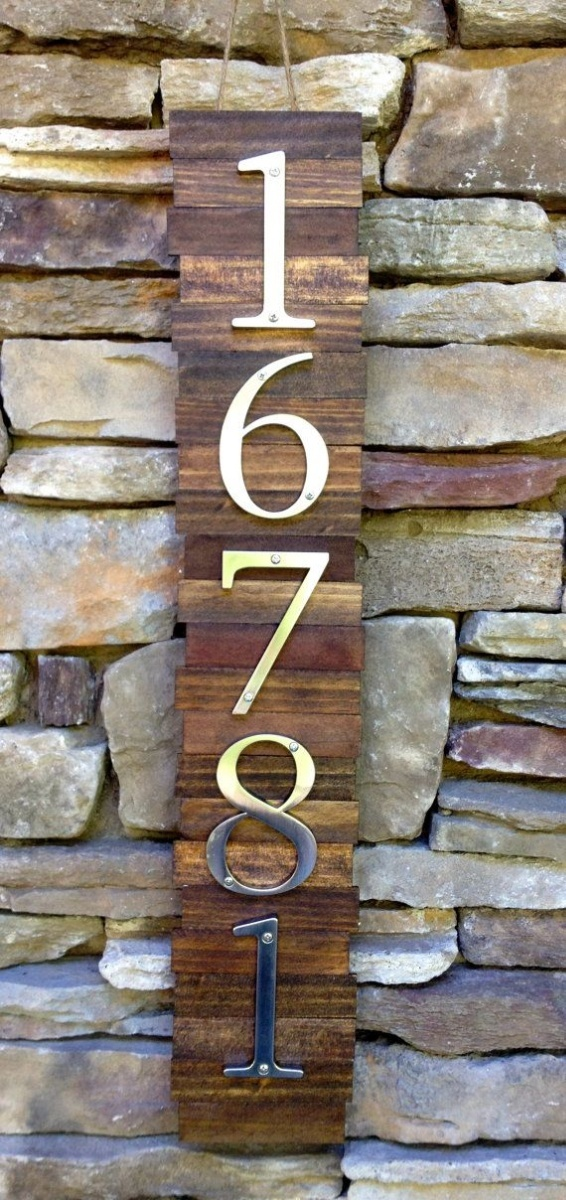text: (209, 146, 224, 1082), (225, 146, 240, 1082), (241, 146, 256, 1082), (257, 146, 272, 1082), (273, 146, 288, 1082), (289, 146, 304, 1082), (305, 146, 320, 1082), (321, 146, 333, 1082), (207, 146, 208, 1082)
